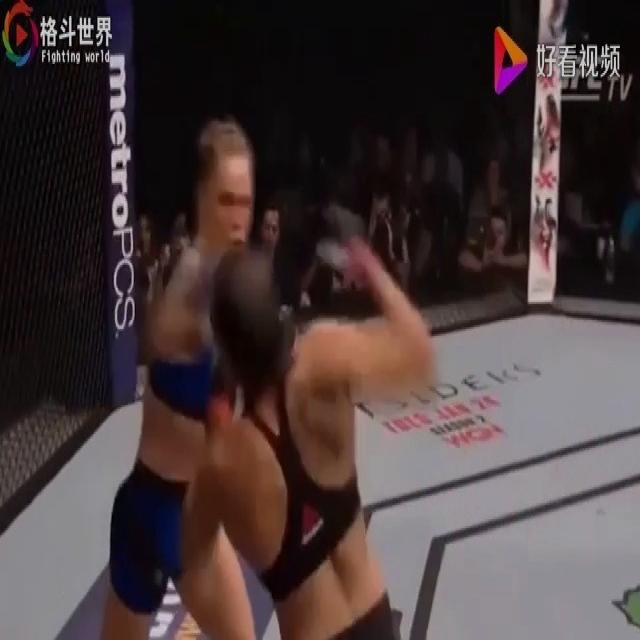fight: (101, 100, 441, 638)
